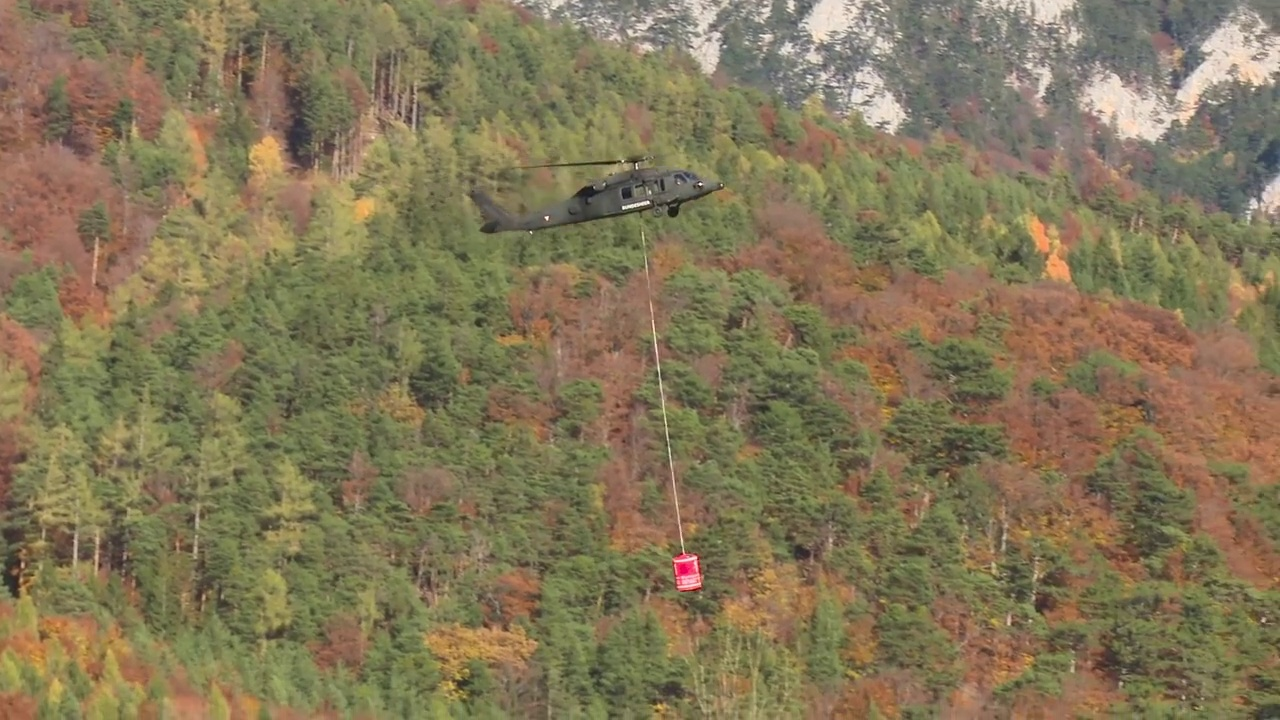heli: (470, 162, 729, 235)
